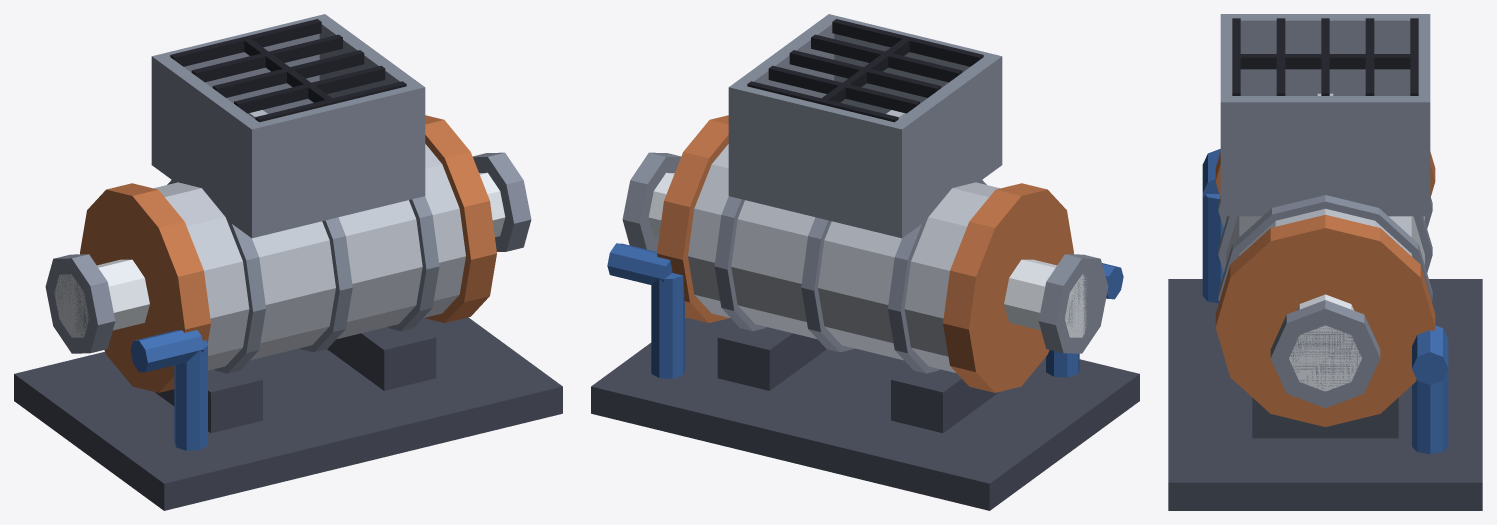
File: condenser.glb
3 renders of one model, left to right at view 1: azimuth 30°, elevation 25°; view 2: azimuth 150°, elevation 25°; view 3: azimuth 270°, elevation 25°, orthographic. The views are drawn at different scales.
Visible parts, largest first — view 1: condenser; view 2: condenser; view 3: condenser.
Part boxes in pixels (x1=…): condenser: x1=14, y1=14, x2=562, y2=510; condenser: x1=591, y1=14, x2=1139, y2=510; condenser: x1=1168, y1=14, x2=1482, y2=510.
Bounding box in the file's own units: 1 × 0.745 × 0.6.
2 materials, 2 textured.
